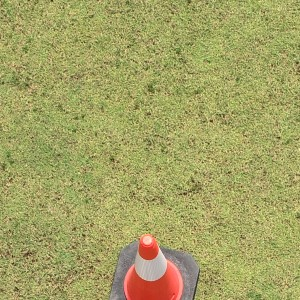traffic cone: (109, 235, 200, 300)
